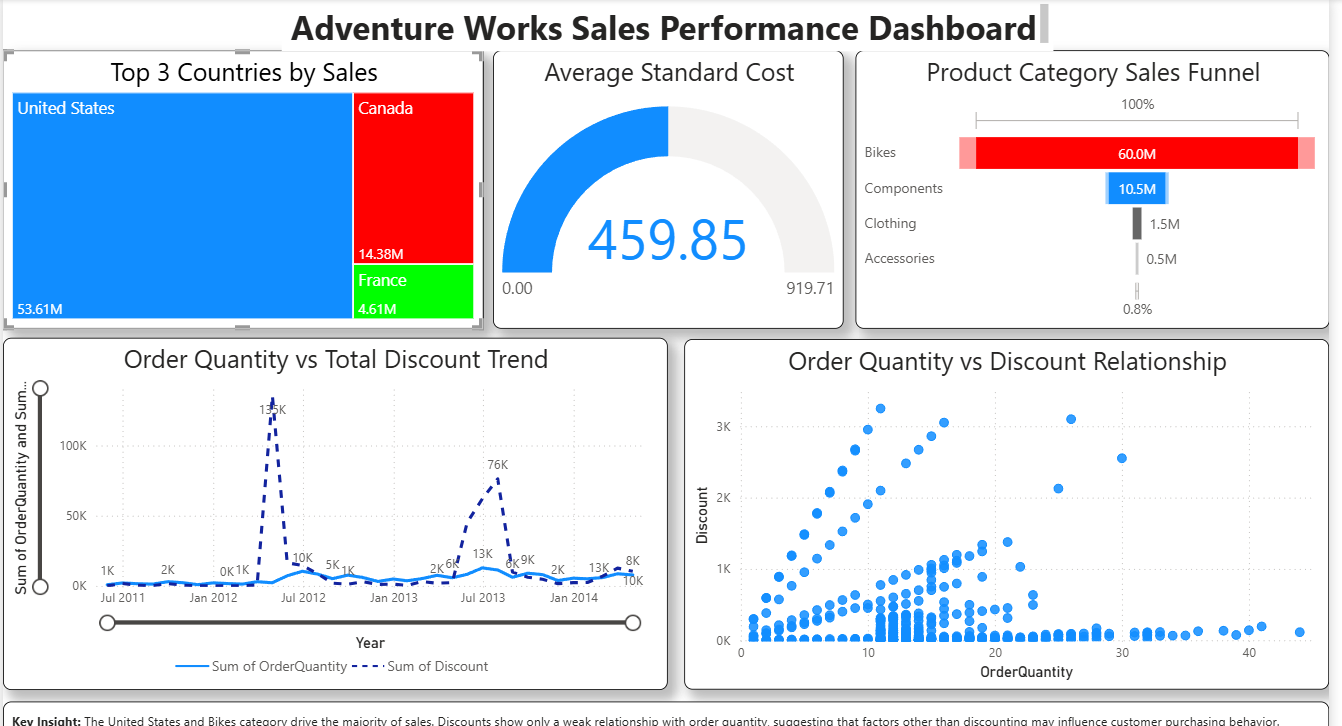

The dashboard page shown, as its layout file describes it:
{"tool":"powerbi","page":{"name":"Page 1","canvas":[1280,720],"ordinal":0},"visuals":[{"type":"treemap","title":"Top 3 Countries by Sales","fields":{"Group":["Sheet1.Country"],"Values":["Sum(Sheet1.Sales)"]},"box":[0,50,463.8,268.8],"z":0},{"type":"gauge","title":"Average Standard Cost","fields":{"Y":["Avg(Sheet1.StandardCost)"]},"box":[472.5,50,338.8,268.8],"z":1000},{"type":"funnel","title":"Product Category Sales Funnel","fields":{"Category":["Sheet1.productcategory"],"Y":["Sum(Sheet1.Sales)"]},"box":[822.5,50,457.5,268.8],"z":2000},{"type":"lineChart","title":"Order Quantity vs Total Discount Trend","fields":{"Y":["Sum(Sheet1.OrderQuantity)","Sum(Sheet1.Discount)"],"Category":["Sheet1.OrderDate.Variation.Date Hierarchy.Year","Sheet1.OrderDate.Variation.Date Hierarchy.Quarter","Sheet1.OrderDate.Variation.Date Hierarchy.Month","Sheet1.OrderDate.Variation.Date Hierarchy.Day"]},"box":[0,327.5,641.2,340],"z":3000},{"type":"scatterChart","title":"Order Quantity vs Discount Relationship","fields":{"X":["Sheet1.OrderQuantity"],"Y":["Sheet1.Discount"]},"box":[657.5,328.8,622.5,338.8],"z":4000},{"type":"textbox","box":[268.8,0,745,50],"z":4001},{"type":"textbox","box":[0,677.5,1280,42.5],"z":4002}]}

Visuals, with their boxes in screenshot pixels (x1, y1, x2, y2):
"Top 3 Countries by Sales" treemap: 3, 48, 482, 326
"Average Standard Cost" gauge: 491, 48, 841, 326
"Product Category Sales Funnel" funnel: 853, 48, 1325, 326
"Order Quantity vs Total Discount Trend" lineChart: 3, 335, 665, 686
"Order Quantity vs Discount Relationship" scatterChart: 682, 336, 1325, 686
textbox: 281, 0, 1050, 48
textbox: 3, 696, 1325, 725
